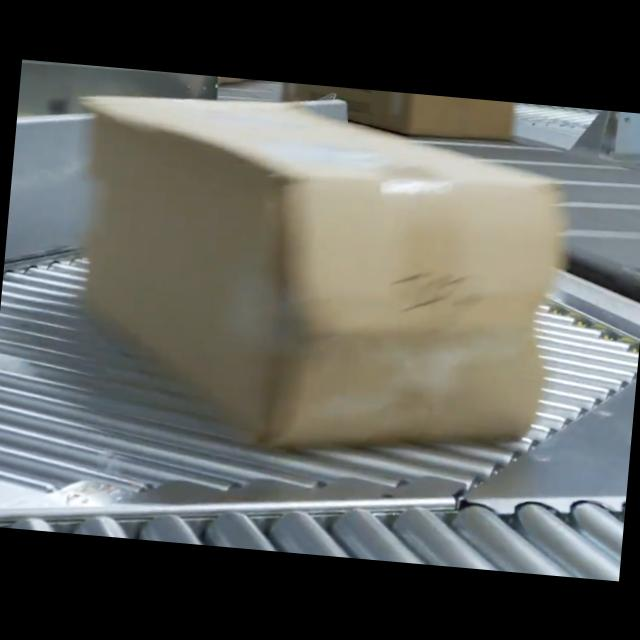box: (72, 88, 566, 471)
